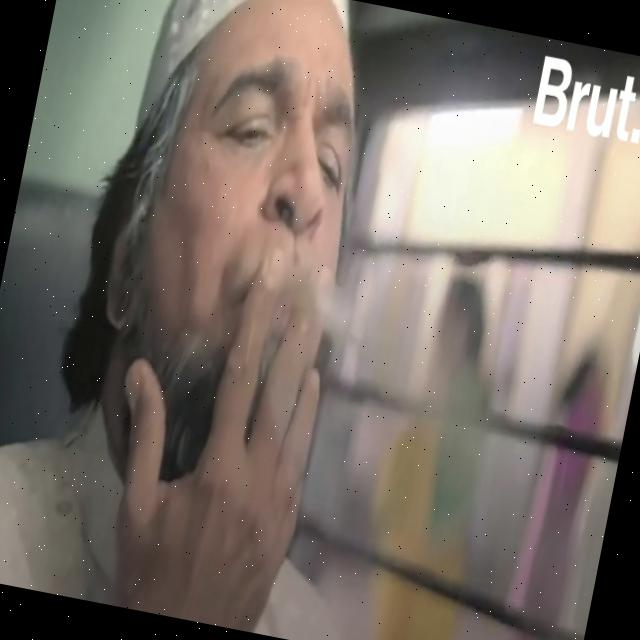spit: (198, 84, 559, 540)
